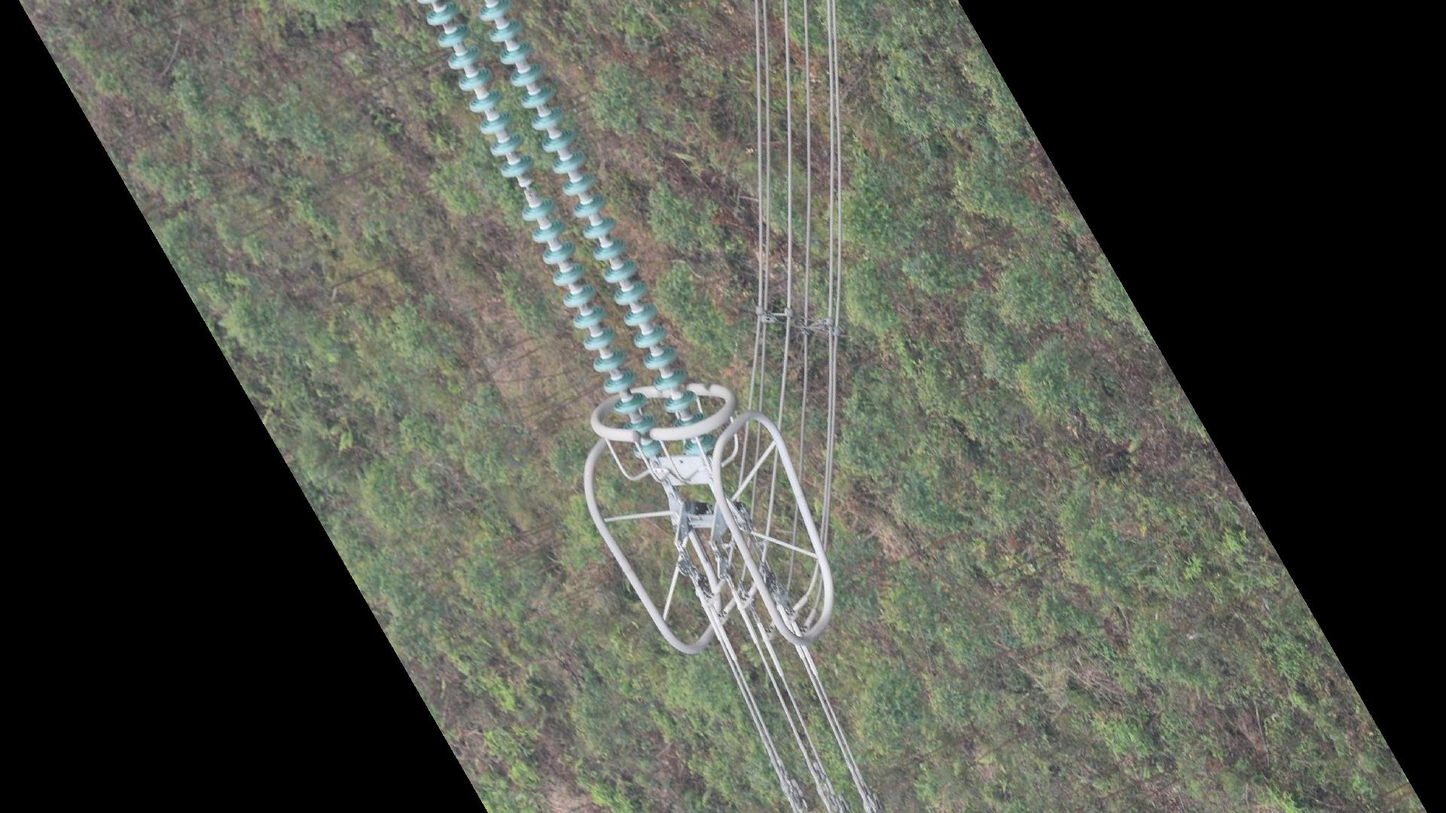insulator: (420, 1, 721, 469)
insulator_stringdrop: (498, 151, 558, 224)
